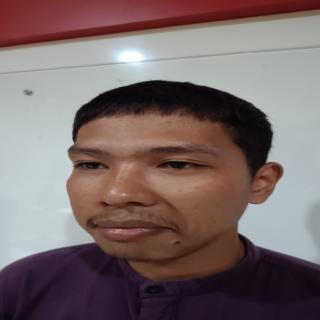Sedih: (64, 111, 258, 265)
